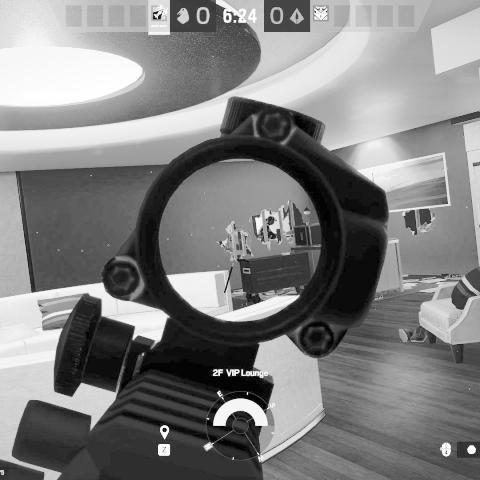Character: (255, 215, 280, 242)
Head: (266, 217, 277, 226)
